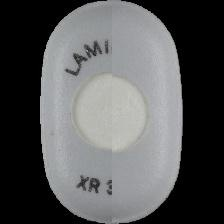0173-0761: (0, 0, 224, 224)
